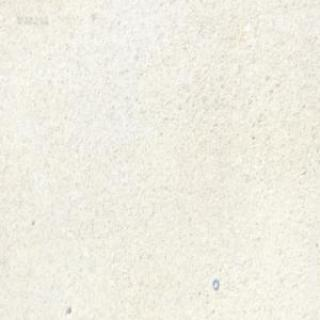Washertrack_idkeyframe: (212, 278, 218, 290)
